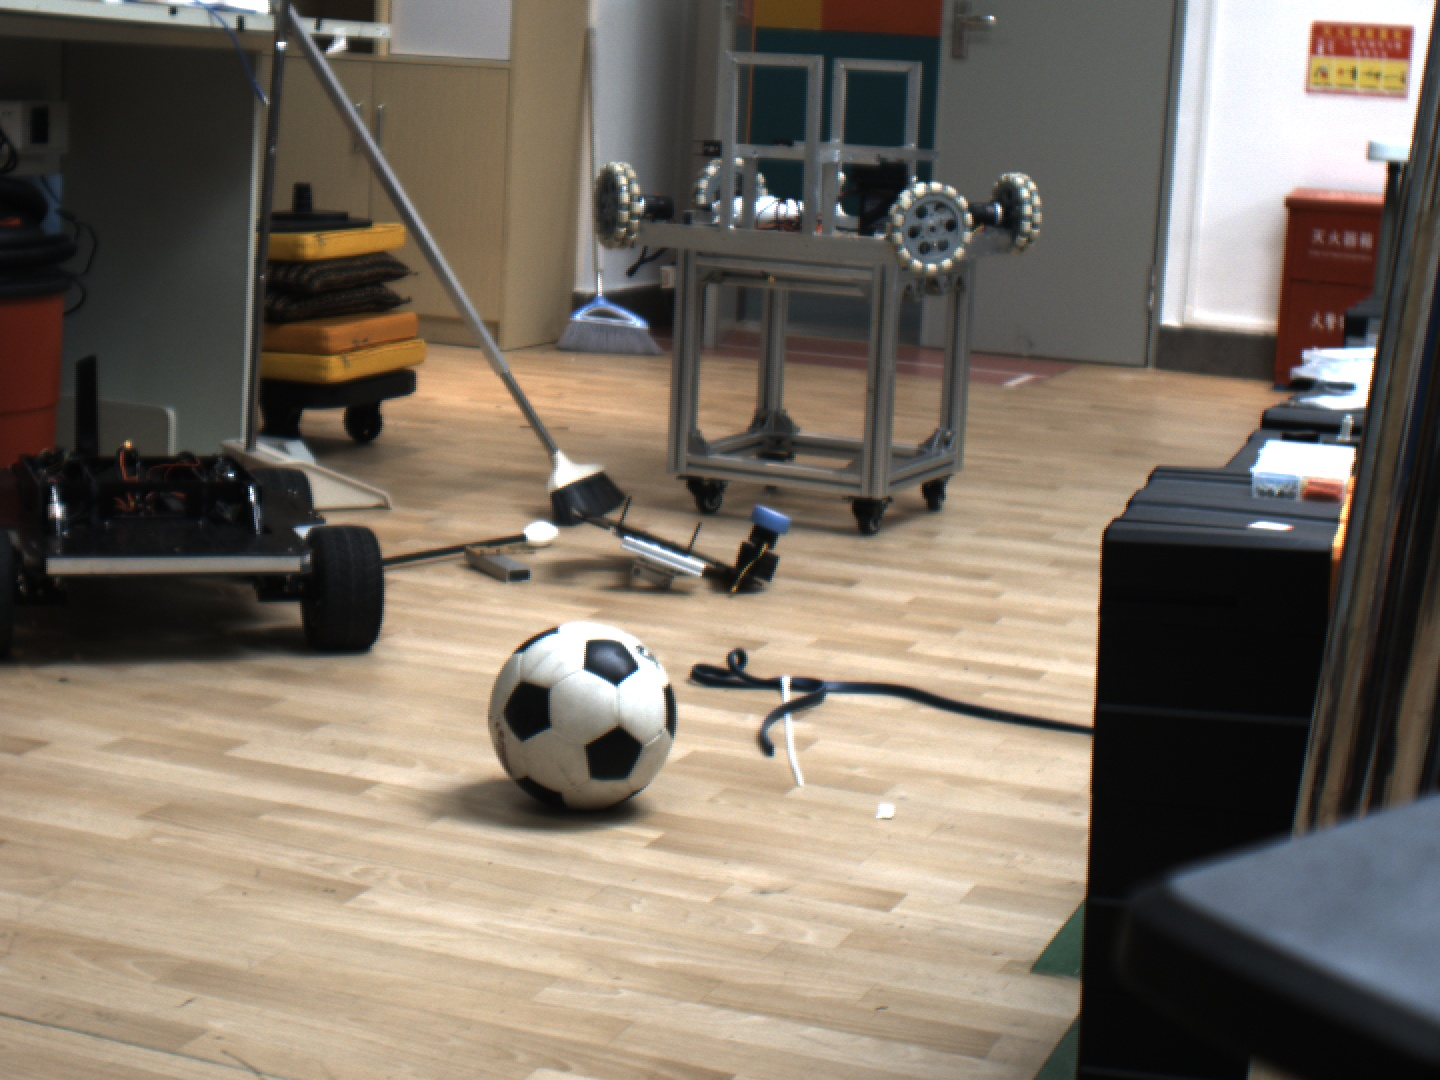ball: (459, 604, 697, 833)
